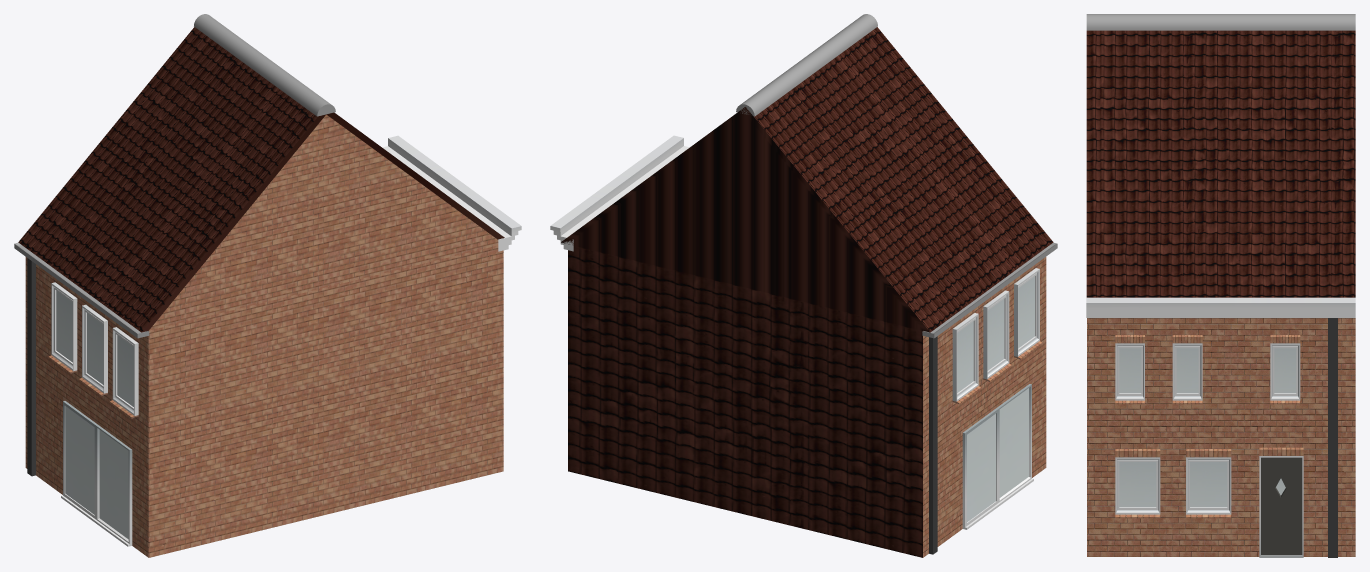
File: It_Heafek_10.fbx
The picture shows the model from 3 angles, left to right: view 1: azimuth 30°, elevation 25°; view 2: azimuth 150°, elevation 25°; view 3: azimuth 270°, elevation 25°; orthographic projection. The views are drawn at different scales.
Parts seen in each view (by area): view 1: It_Heafek_10; view 2: It_Heafek_10; view 3: It_Heafek_10.
Part boxes in pixels (x1,y1,x2,y2): It_Heafek_10: (14, 14, 521, 557); It_Heafek_10: (550, 14, 1057, 557); It_Heafek_10: (1086, 14, 1355, 557).
Bounding box in the file's own units: 1025 × 1047 × 571.
